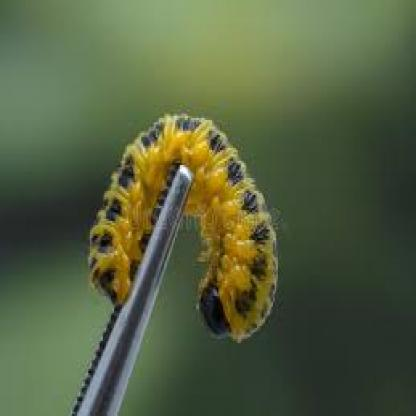sawfly: (85, 106, 281, 344)
